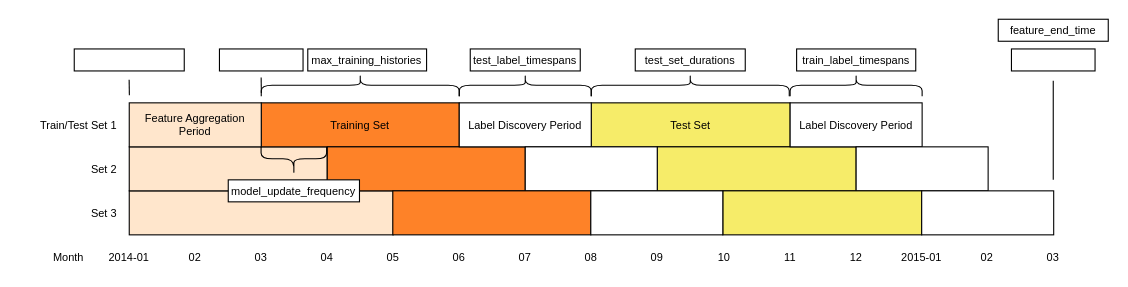
The diagram is 1128 pixels wide and 287 high, and some of its shapes have lost their labels. Each missing label, with the centre of its shape:
feature_start_time: point 128,59
label_end_time: point 1052,59
label_start_time: point 260,59
